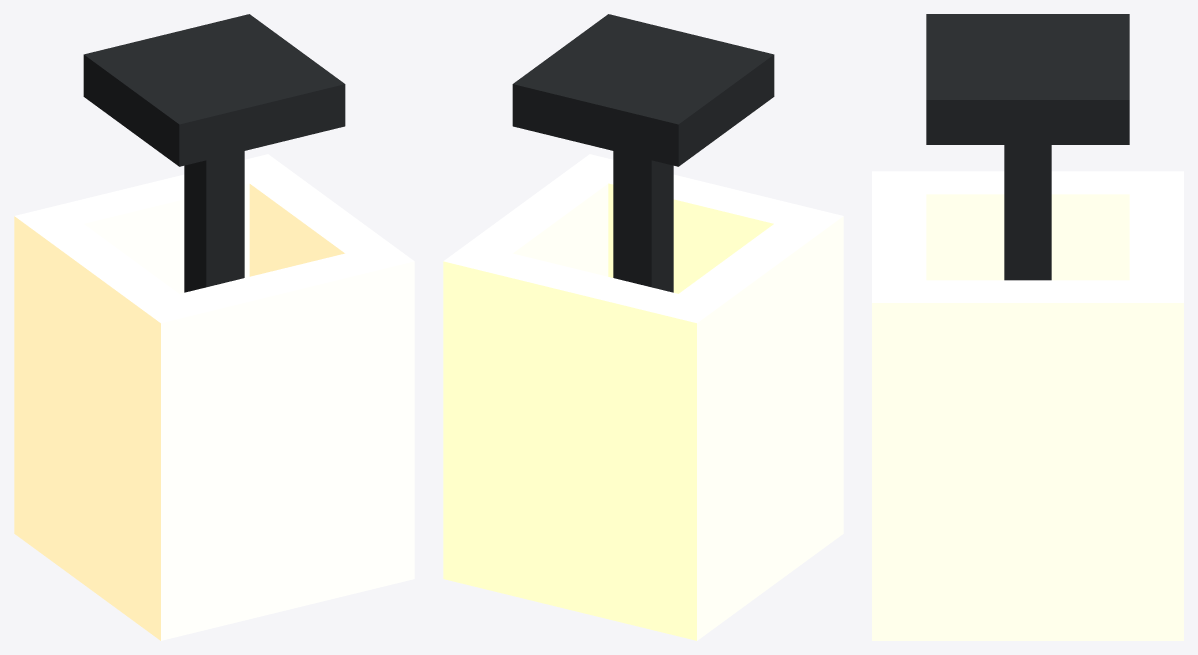
The model's file is lamp-pendant-square.glb.
3 renders of one model, left to right at view 1: azimuth 30°, elevation 25°; view 2: azimuth 150°, elevation 25°; view 3: azimuth 270°, elevation 25°, orthographic. The views are drawn at different scales.
Visible parts, largest first — view 1: lamp-pendant-square; view 2: lamp-pendant-square; view 3: lamp-pendant-square.
Part boxes in pixels (x1=…): lamp-pendant-square: x1=14, y1=14, x2=414, y2=640; lamp-pendant-square: x1=443, y1=14, x2=843, y2=640; lamp-pendant-square: x1=872, y1=14, x2=1183, y2=640.
Size of the model in its own units: 0.3 by 0.55 by 0.3.
